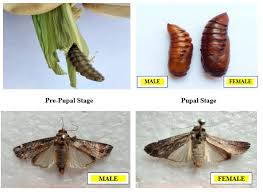larva: (65, 46, 112, 86)
moth: (139, 116, 257, 168), (11, 118, 118, 173)
pupa: (203, 10, 236, 80), (164, 20, 197, 82)
